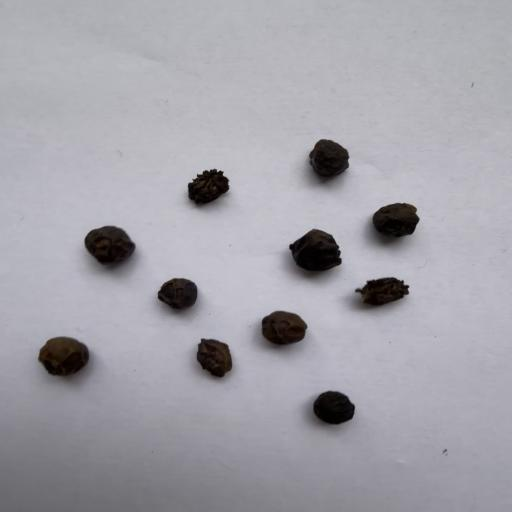Black_pepper: (72, 210, 163, 268), (299, 380, 376, 436), (299, 136, 365, 188), (34, 334, 110, 379), (375, 202, 447, 246), (152, 271, 222, 316), (288, 230, 340, 277), (259, 309, 327, 344)
papaya_seed: (185, 158, 258, 208), (352, 268, 423, 307), (191, 334, 237, 379)
